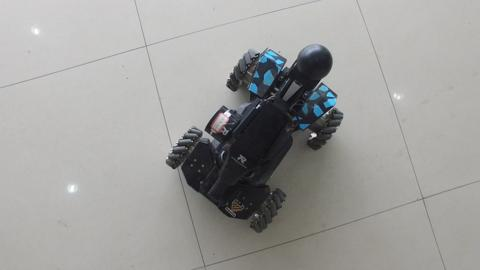chariot: (174, 35, 328, 232)
